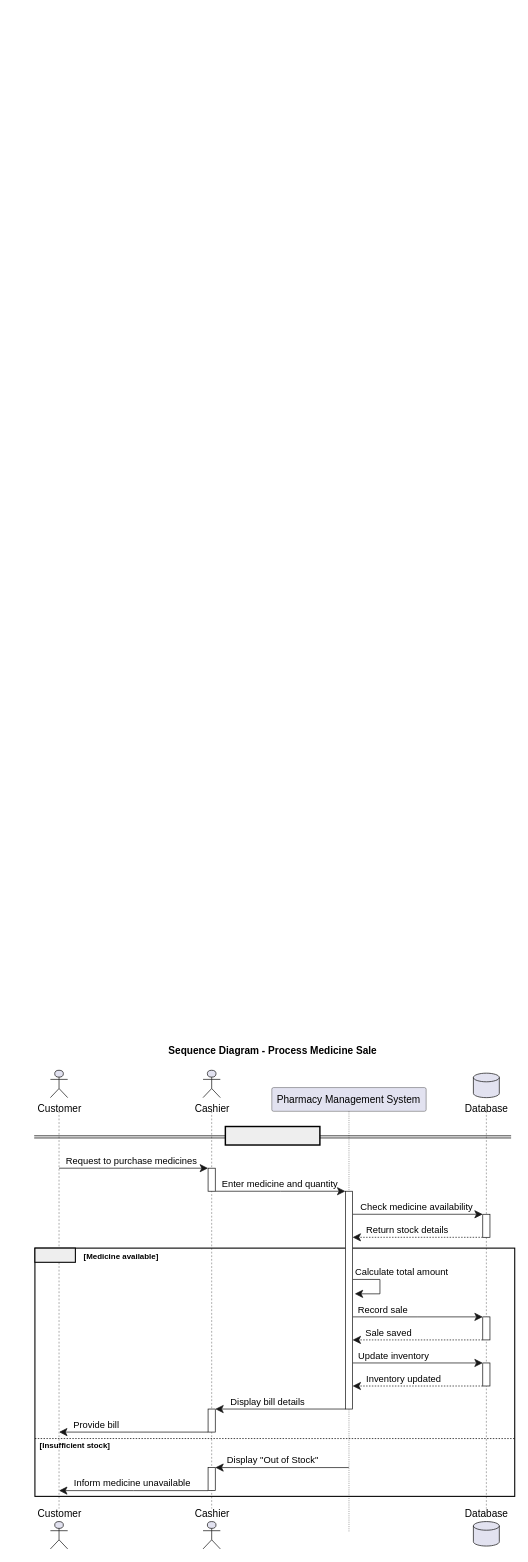
This 528x1562 diagram has some shape labels left out. The centre of each missing label's shape, as x and y in pixels:
"alt" goes at (x=55, y=1255).
"Purchase Request" goes at (x=272, y=1135).
